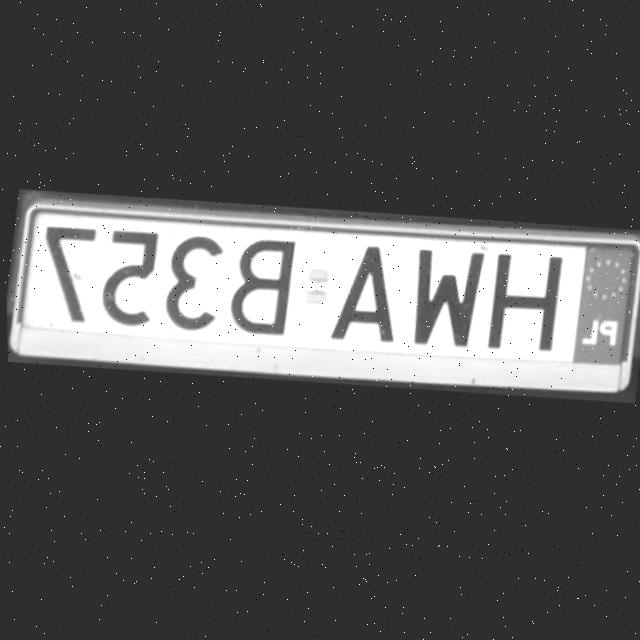license-plates: (20, 213, 637, 366)
